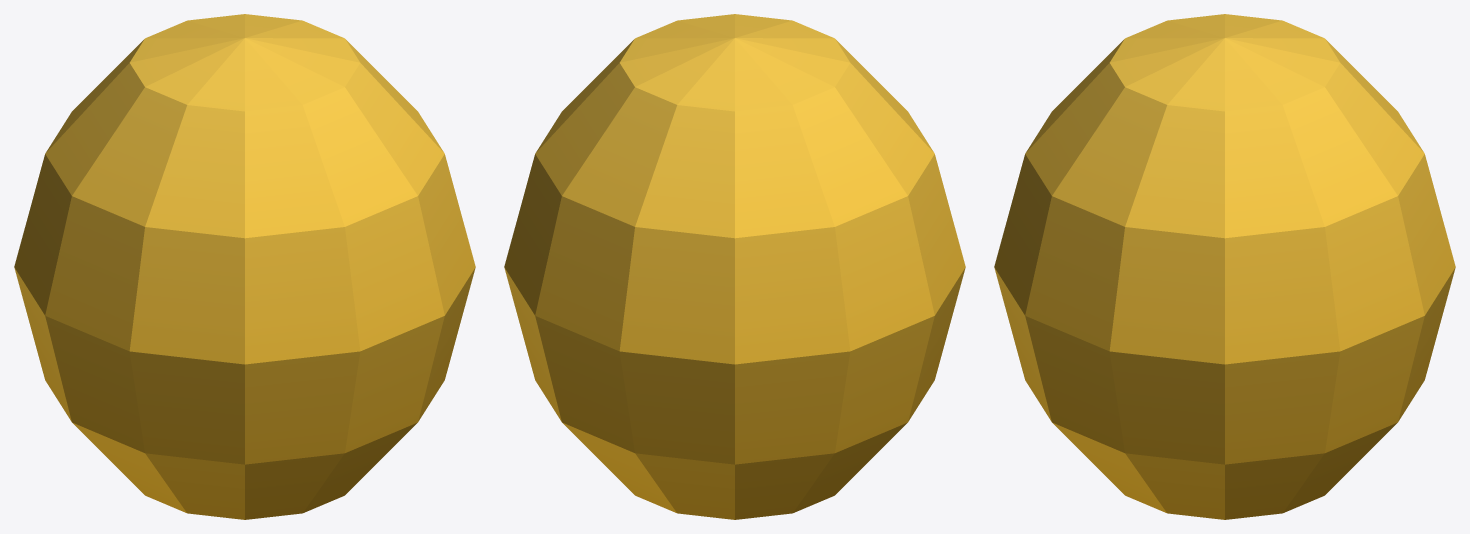
File: Melon.fbx
3 views of the same model, side by side, from view 1: azimuth 30°, elevation 25°; view 2: azimuth 150°, elevation 25°; view 3: azimuth 270°, elevation 25° (orthographic).
Visible parts, largest first — view 1: Melon; view 2: Melon; view 3: Melon.
Boxes of the visible parts, x1,y1,x2,y2 form: Melon: (14,14,475,519); Melon: (504,14,965,519); Melon: (994,14,1455,519).
Size of the model in its own units: 19.84 by 21.72 by 19.84.
